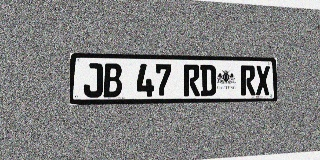4: (136, 64, 154, 97)
7: (155, 64, 172, 97)
B: (103, 63, 122, 97)
D: (200, 65, 216, 96)
J: (83, 63, 103, 98)
R: (184, 64, 200, 96), (241, 65, 255, 95)
X: (256, 66, 270, 95)
